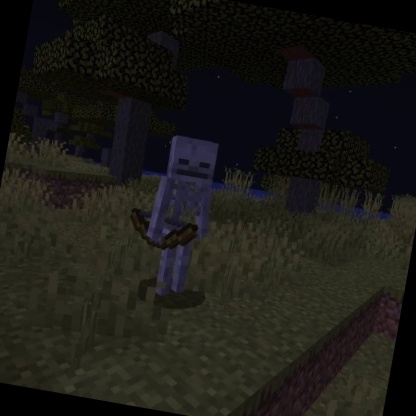skeleton: (115, 125, 229, 306)
